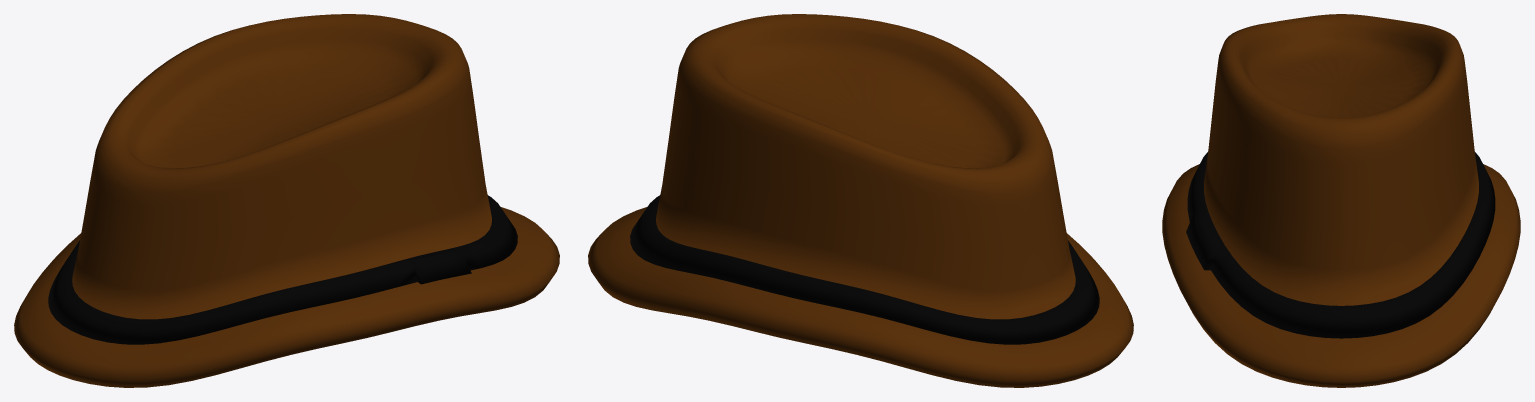
Rendered from Hoedje.fbx.
3 views of the same model, side by side, from view 1: azimuth 30°, elevation 25°; view 2: azimuth 150°, elevation 25°; view 3: azimuth 270°, elevation 25° (orthographic). The views are drawn at different scales.
Visible parts, largest first — view 1: Hoedje; view 2: Hoedje; view 3: Hoedje.
Boxes of the visible parts, <box> form: Hoedje: <box>14,14,559,387</box>; Hoedje: <box>588,14,1133,387</box>; Hoedje: <box>1162,14,1520,387</box>.
Bounding box in the file's own units: 216 × 95.65 × 137.
